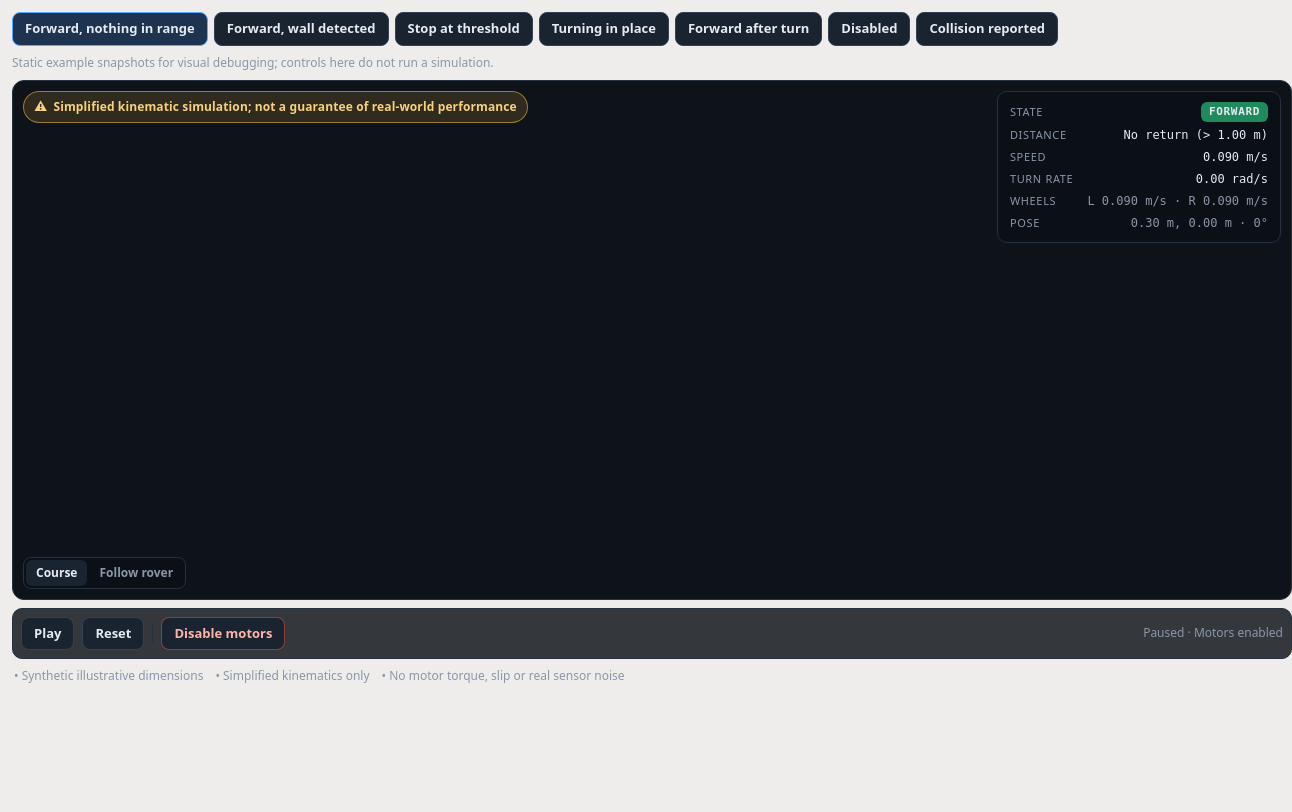
it: SimulationVisualDebug › steps through static examples and keeps the warning visible
Expected: the text with test id "sim-readout-state" reads "FORWARD", top-left (1209, 104), bottom-right (1260, 118)
Click the button "Disabled" at x=869, y=29, box top-left (828, 12), bottom-right (910, 46)
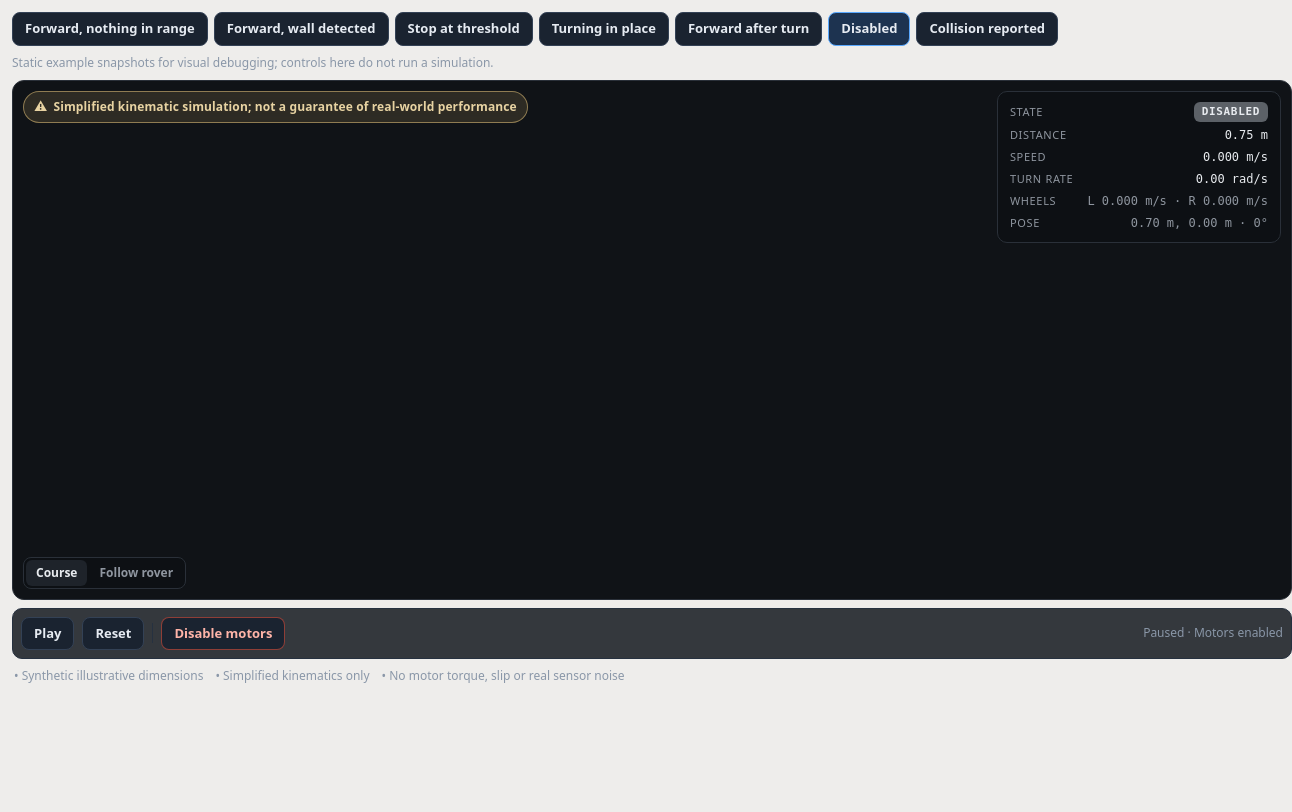
Expected: the element with test id "sim-disclaimer" shows "Simplified kinematic simulation; not a guarantee of real-world performance", top-left (54, 98), bottom-right (517, 114)
Result: the text with test id "sim-readout-state" reads "DISABLED" at top-left (1202, 104), bottom-right (1260, 118)
